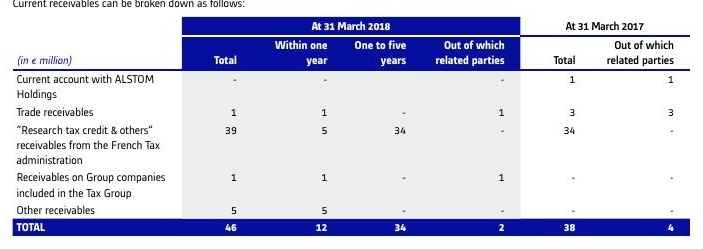table: (0, 0, 703, 249)
